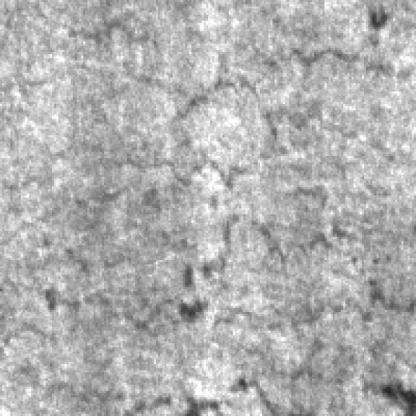crazing: (6, 300, 414, 414), (37, 221, 391, 344), (81, 73, 391, 206)
